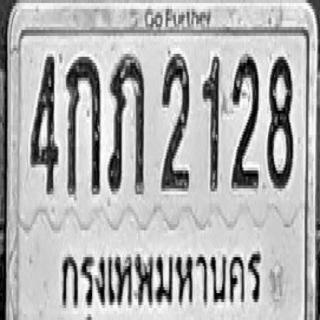A01: (65, 52, 100, 193)
A32: (107, 52, 145, 193)
N01: (202, 52, 220, 190)
N02: (161, 51, 189, 188), (231, 52, 259, 187)
N04: (30, 52, 58, 193)
N08: (267, 52, 293, 187)
P04: (55, 232, 264, 319)
